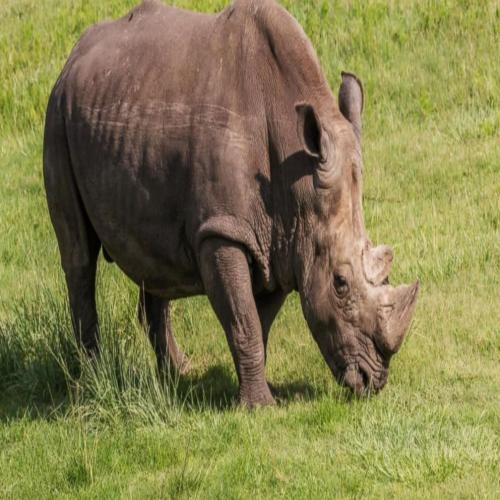rhino-endangered: (43, 0, 418, 407)
